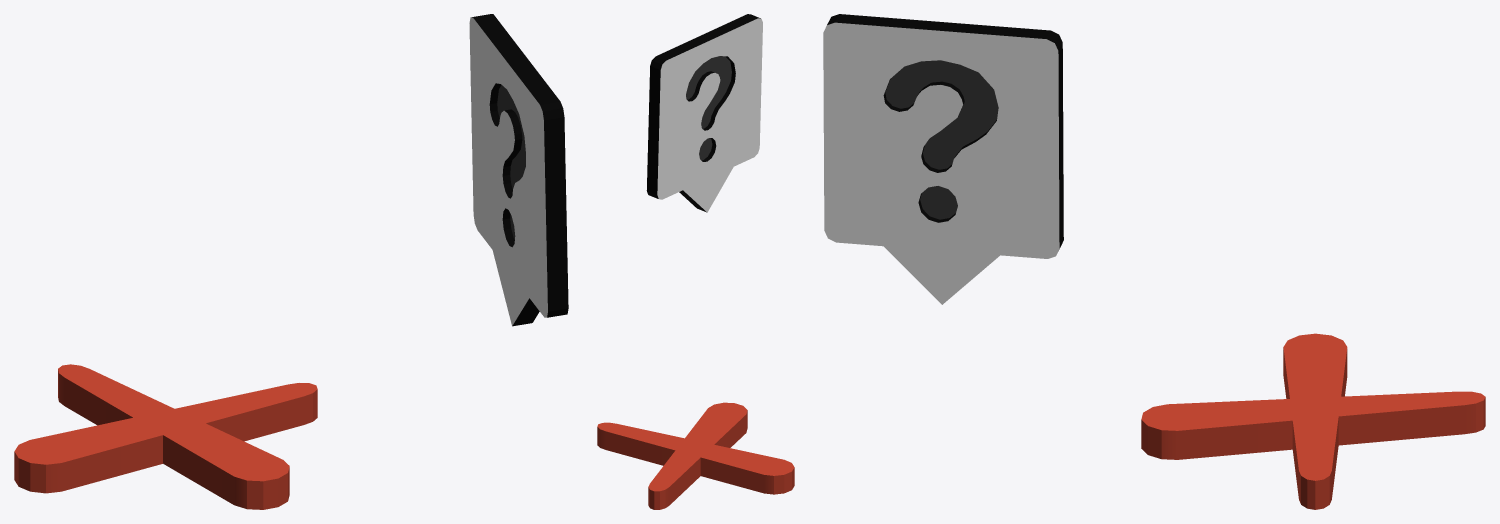
Rendered from Icoontjes.fbx.
The picture shows the model from 3 angles, left to right: view 1: azimuth 30°, elevation 25°; view 2: azimuth 150°, elevation 25°; view 3: azimuth 270°, elevation 25°; orthographic projection. The views are drawn at different scales.
Visible parts, largest first — view 1: Cross3, pCylinder10; view 2: pCylinder10, Cross3; view 3: pCylinder10, Cross3.
Part boxes in pixels (<box>): Cross3: <box>14,364,317,509</box>; pCylinder10: <box>469,14,568,326</box>; pCylinder10: <box>646,14,762,212</box>; Cross3: <box>597,402,794,509</box>; pCylinder10: <box>823,14,1063,304</box>; Cross3: <box>1141,333,1485,509</box>.
Size of the model in its own units: 2.96 by 3.94 by 4.8.
